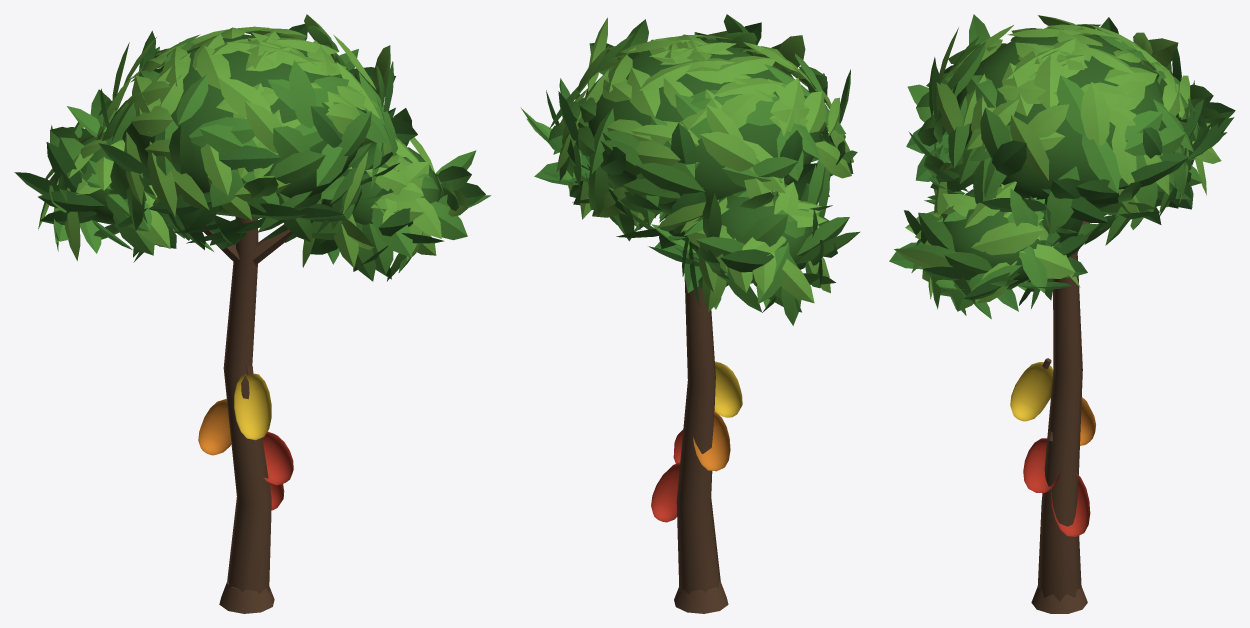
File: cacaotree.glb
The picture shows the model from 3 angles, left to right: view 1: azimuth 30°, elevation 25°; view 2: azimuth 150°, elevation 25°; view 3: azimuth 270°, elevation 25°; orthographic projection.
Visible parts, largest first — view 1: cacaotree; view 2: cacaotree; view 3: cacaotree.
Part boxes in pixels (x1,y1,x2,y2): cacaotree: (14,14,491,613); cacaotree: (520,14,860,613); cacaotree: (889,14,1235,613).
Size of the model in its own units: 0.8962 by 1.27 by 0.7051.
